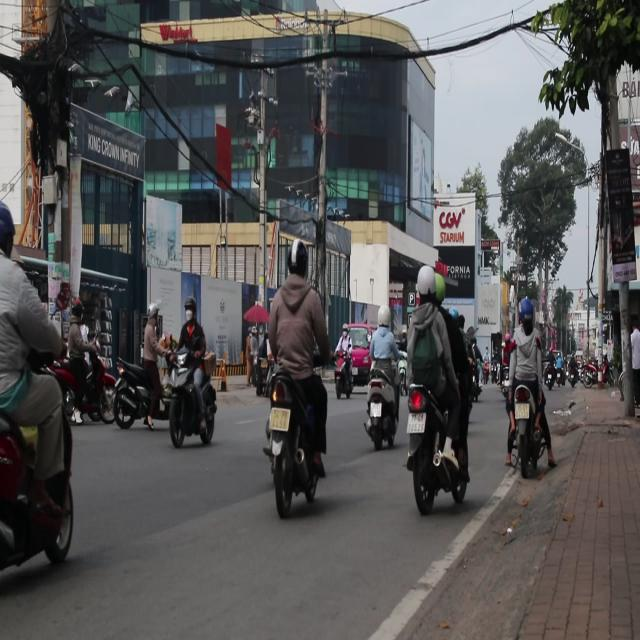motorbike: (1, 373, 76, 617), (262, 372, 324, 516), (406, 377, 466, 515), (159, 345, 217, 446), (44, 352, 114, 423), (511, 370, 551, 484), (108, 355, 154, 430), (363, 365, 398, 450), (334, 353, 356, 400), (581, 360, 608, 390), (595, 357, 614, 389)
truck: (335, 323, 376, 391)
